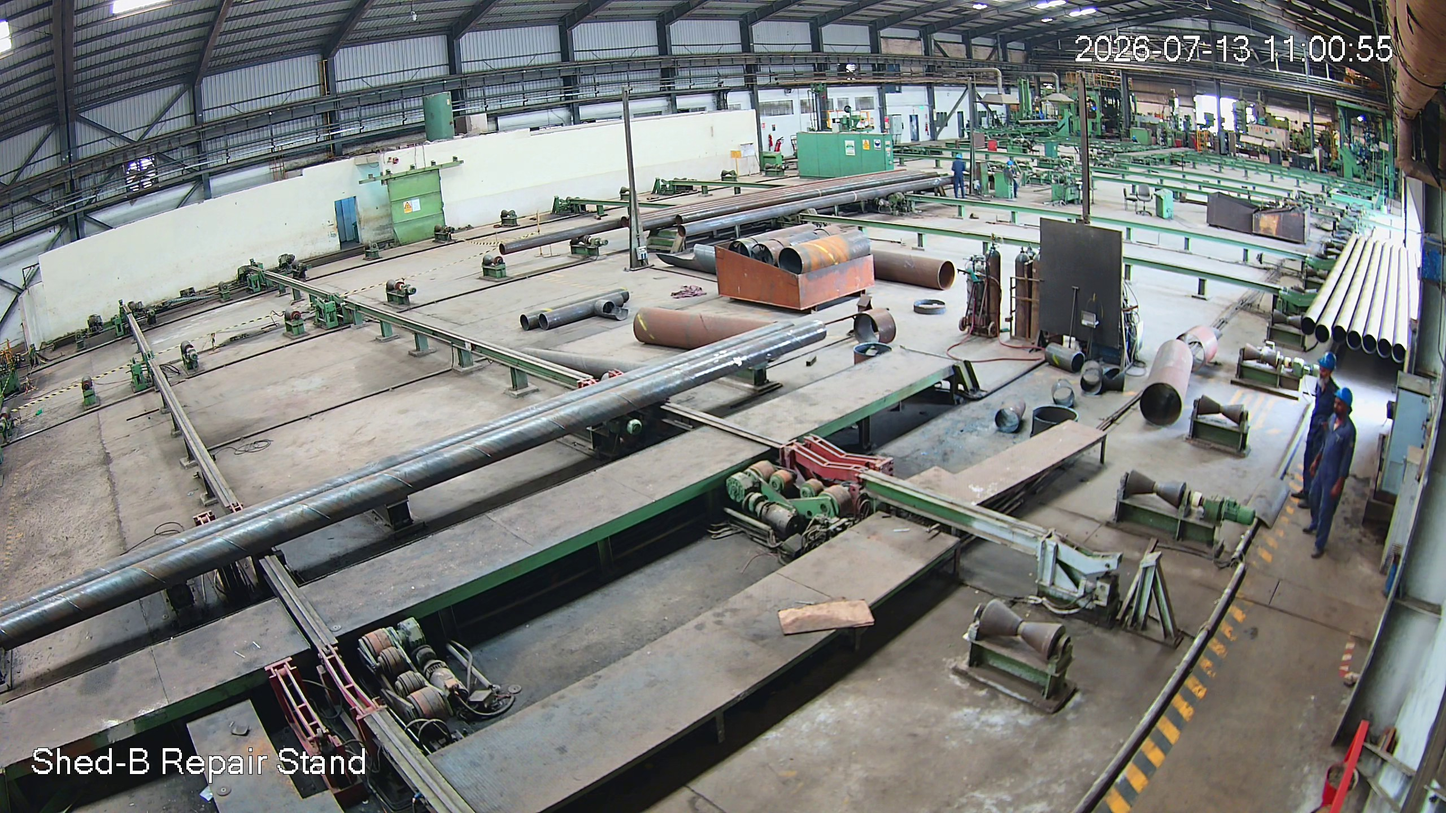Helmet: (1317, 351, 1343, 385), (1332, 385, 1354, 418)
Person: (1305, 390, 1361, 557), (1293, 353, 1342, 504)
